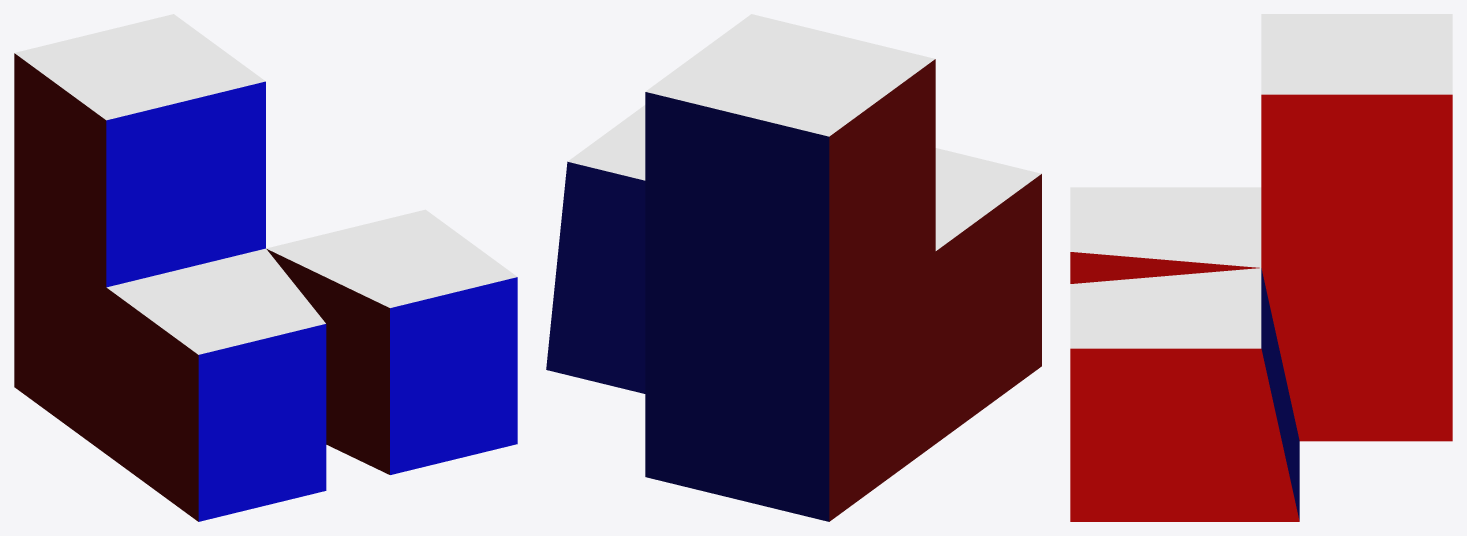
File: labeled_CAD.glb
The picture shows the model from 3 angles, left to right: view 1: azimuth 30°, elevation 25°; view 2: azimuth 150°, elevation 25°; view 3: azimuth 270°, elevation 25°; orthographic projection. The views are drawn at different scales.
Size of the model in its own units: 10 by 10 by 10.
1 material, 1 textured.
